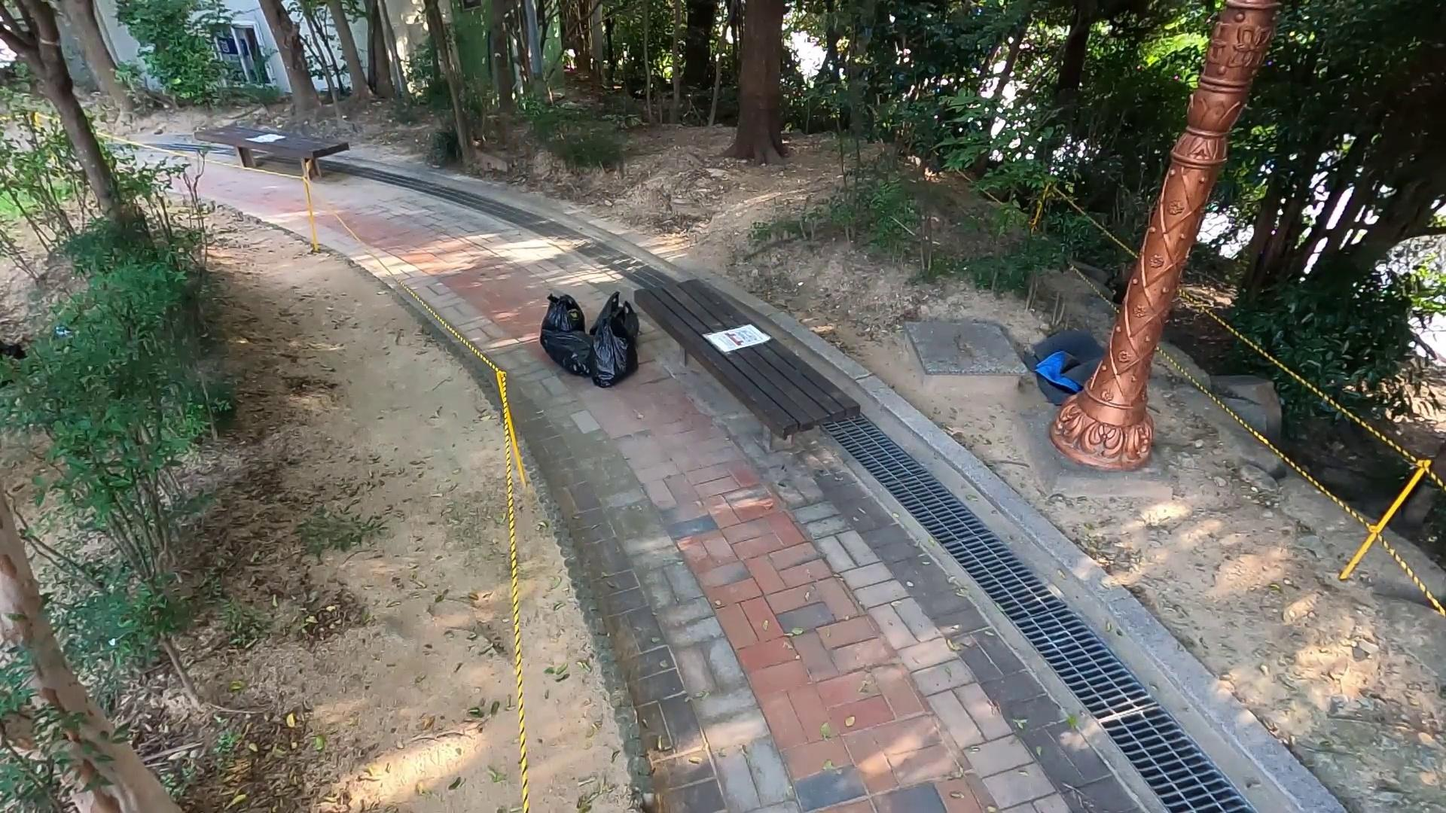trash: (1021, 327, 1110, 408), (586, 318, 641, 386), (538, 321, 596, 374), (540, 293, 586, 355), (591, 293, 641, 345)
